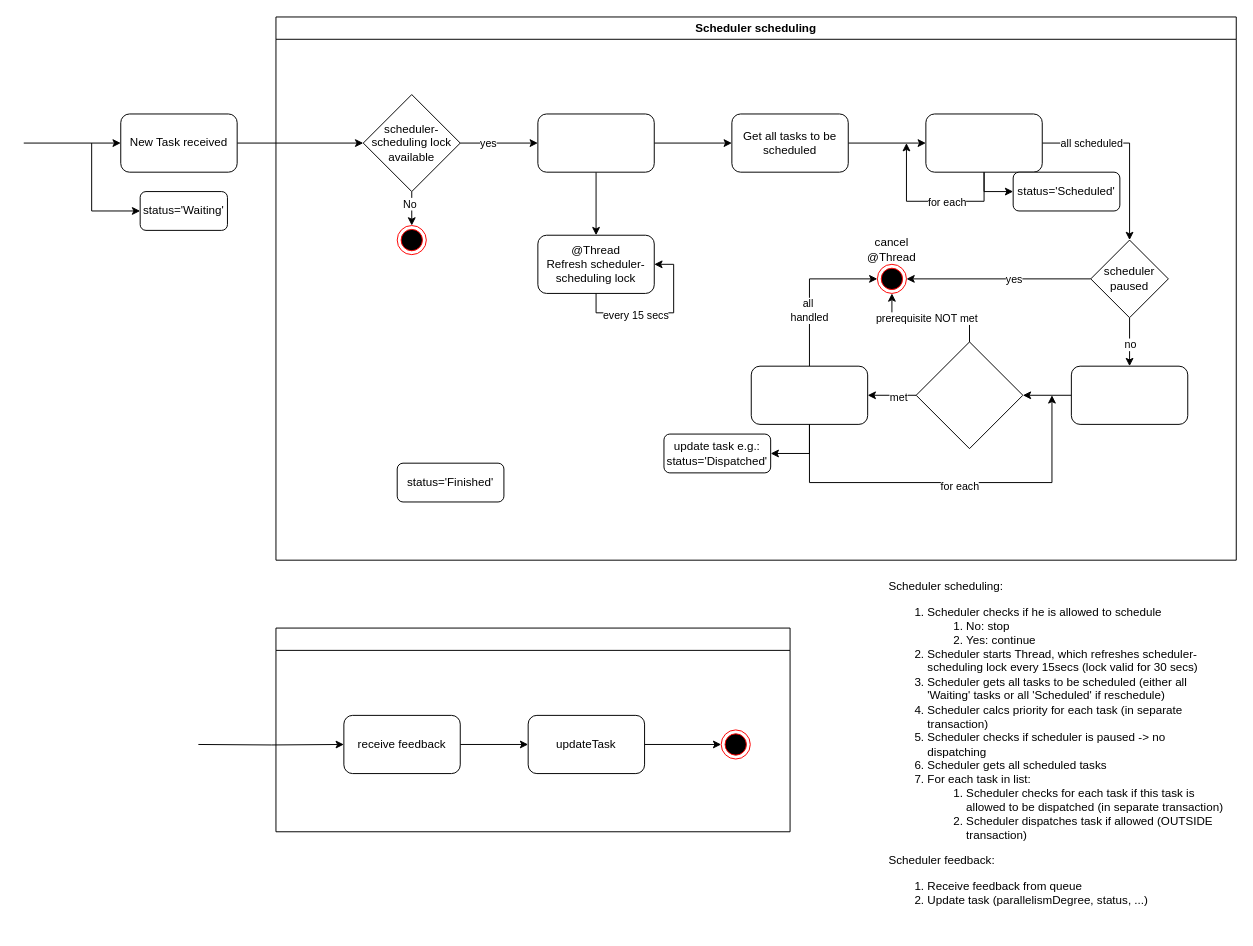
The diagram is 1253 pixels wide and 946 high, and some of its shapes have lost their labels. Each missing label, with the box of its shape:
@Transactional checkTask OnDispatch: (915, 341, 1023, 449)
@Transactional schedule task: (925, 113, 1042, 172)
Acquire scheduler-scheduling lock: (537, 113, 654, 172)
dispatchTask: (750, 365, 868, 424)
Get all tasks to be dispatched: (1070, 365, 1188, 424)
Scheduler feedback: (275, 627, 790, 832)
